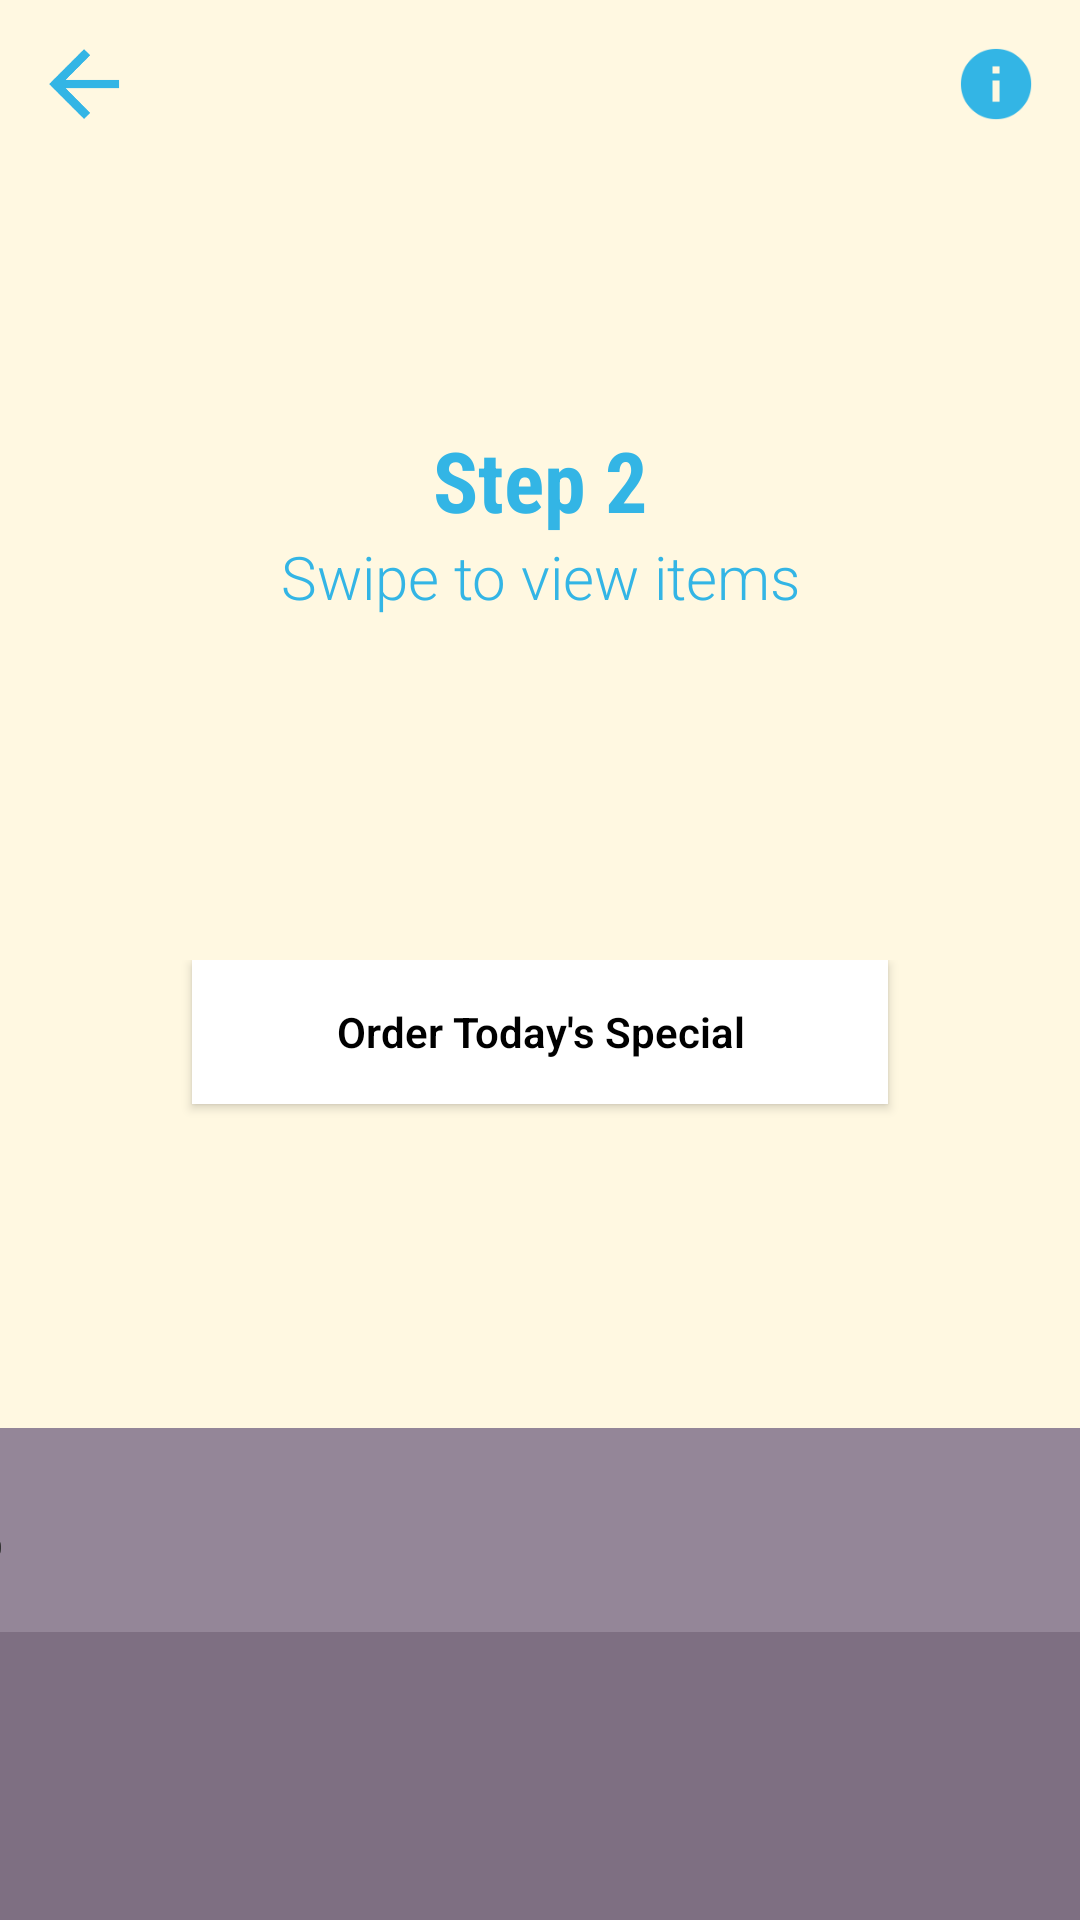

Icon bounding boxes for this 1080px x 1920px phone screenshot, format (x1, y1, x2, y2):
arrow back: (49, 49, 119, 119)
info: (961, 49, 1032, 120)
